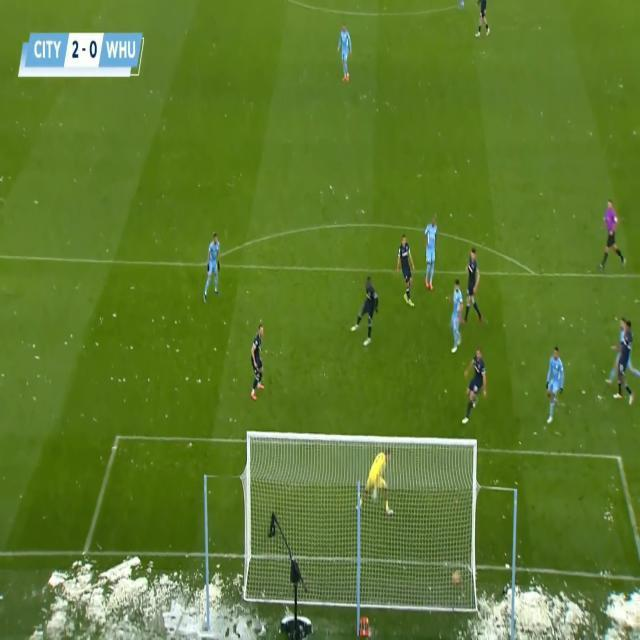ball: (451, 563, 464, 591)
goalkeeper: (364, 441, 396, 518)
player: (463, 343, 490, 436), (542, 340, 568, 433), (357, 263, 382, 352), (617, 317, 639, 414), (465, 242, 486, 332), (203, 229, 225, 307), (397, 234, 418, 314), (252, 322, 270, 400), (336, 20, 356, 90), (449, 275, 465, 360), (424, 216, 439, 294), (475, 1, 493, 48), (619, 311, 630, 387)
referee: (599, 196, 627, 279)
